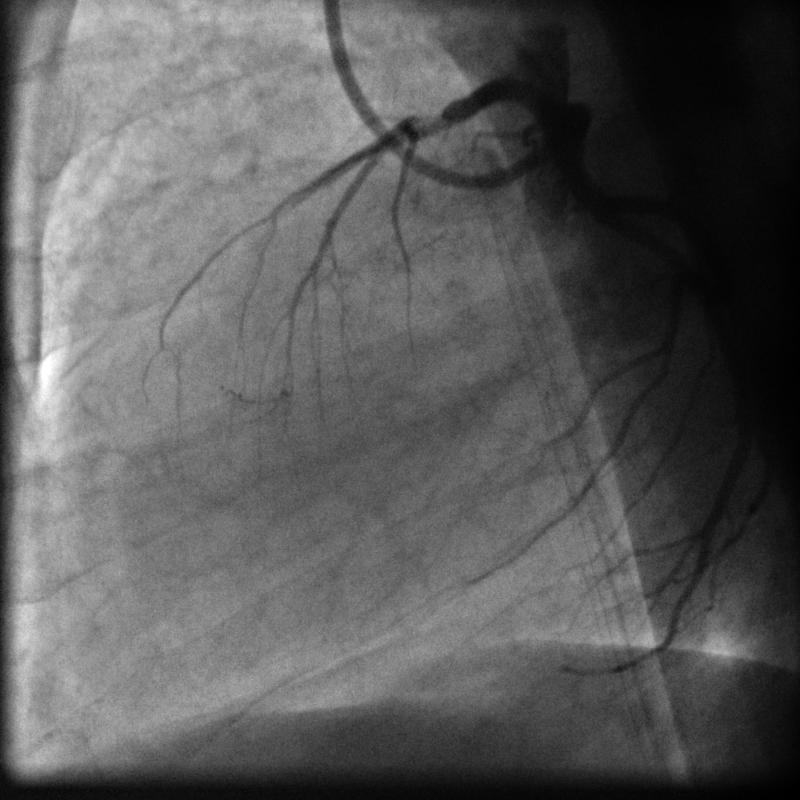Stenosis: (392, 102, 448, 141)
